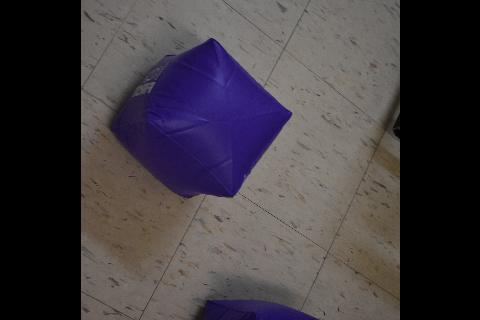cube: (107, 38, 293, 200), (182, 298, 342, 320)
